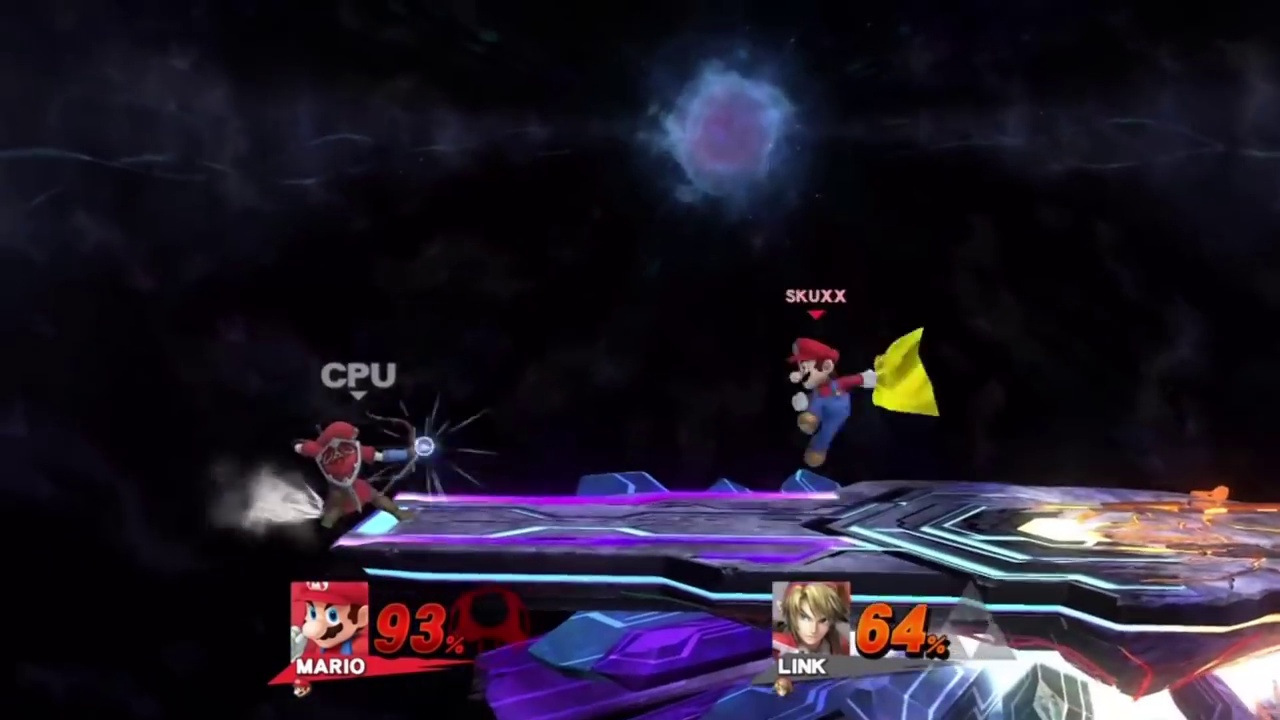Mario: (783, 332, 943, 467)
